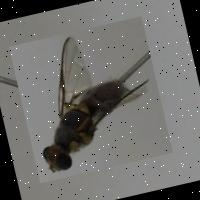Oriental-fruit-fly: (7, 15, 171, 182)
